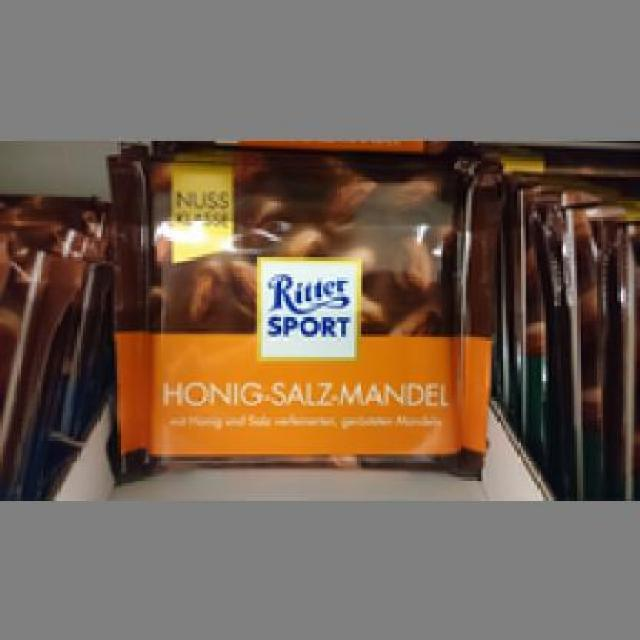Chocolate: (102, 148, 495, 478)
